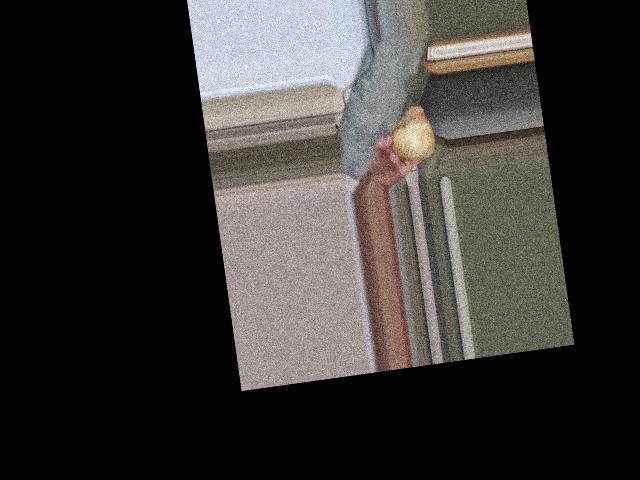onion: (384, 102, 434, 164)
